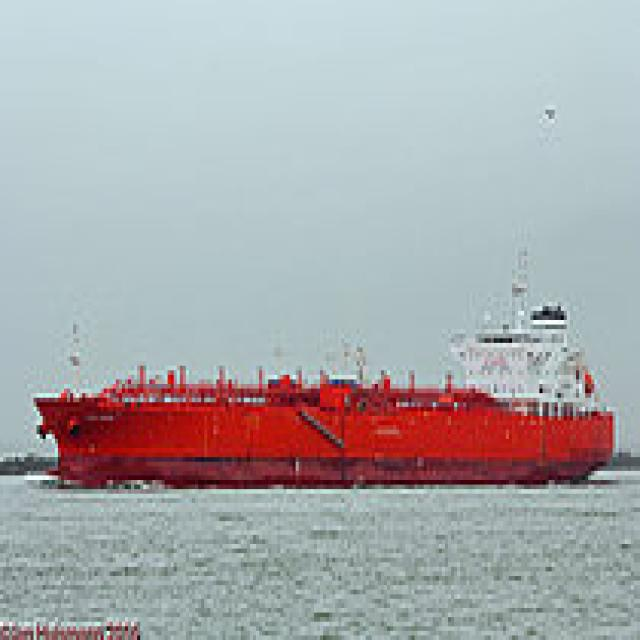Tanker: (28, 302, 612, 480)
